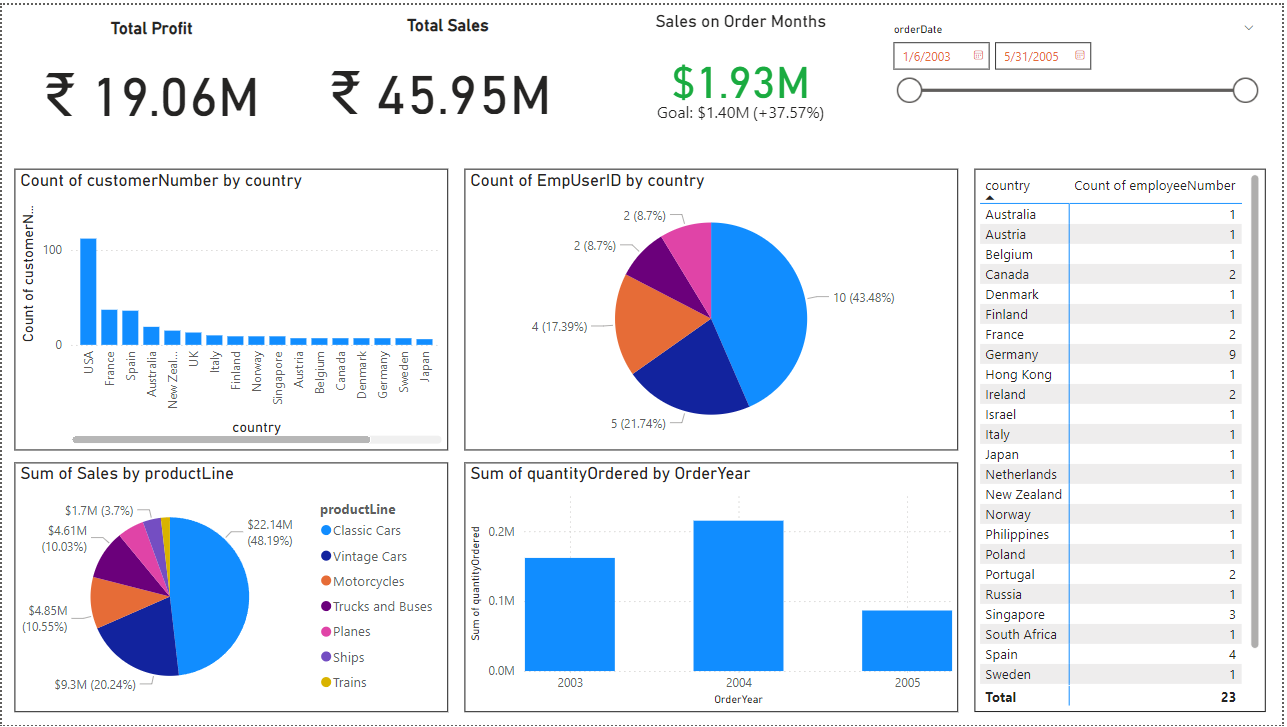

This screenshot's page, from the dashboard's own definition file:
{"tool":"powerbi","page":{"name":"CompanyAna","canvas":[1280,720],"ordinal":0},"visuals":[{"type":"columnChart","fields":{"Category":["Customers.country"],"Y":["CountNonNull(Orders.customerNumber)"]},"box":[12.3,163.3,433.6,281.3],"z":0},{"type":"pieChart","fields":{"Category":["Offices.country"],"Y":["CountNonNull(Emplyees.EmpUserID)"]},"box":[462.4,163.3,494,281.3],"z":1000},{"type":"pivotTable","fields":{"Rows":["Customers.country"],"Values":["CountNonNull(Emplyees.employeeNumber)"]},"box":[972.9,163.3,290.9,543.4],"z":2000},{"type":"pieChart","fields":{"Category":["ProductLines.productLine"],"Y":["Sum(OrderDetails.Sales)"]},"box":[12.3,456.9,433.6,249.7],"z":3000},{"type":"slicer","fields":{"Values":["Orders.orderDate"]},"box":[878.2,12.3,385.6,109.8],"z":4000},{"type":"card","title":"Total Profit","fields":{"Values":["OrderDetails.Total_Profit"]},"box":[12.3,12.3,274.4,126.2],"z":5000},{"type":"kpi","title":"Sales on Order Months","fields":{"Indicator":["OrderDetails.sales_2004"],"Goal":["OrderDetails.sales_2003"],"TrendLine":["Orders.OrderMonth"]},"box":[598.3,6.9,279.9,142.7],"z":6000},{"type":"columnChart","fields":{"Category":["Orders.OrderYear"],"Y":["Sum(OrderDetails.quantityOrdered)"]},"box":[462.4,456.9,494,249.7],"z":7000},{"type":"cardVisual","title":"Total Sales","fields":{"Data":["OrderDetails.Total_sales"]},"box":[310.1,9.6,271.7,104.3],"z":8000}]}

Visuals, with their boxes in screenshot pixels (x1, y1, x2, y2), scaled from the page's 1280x720 canvas onto the 1287x727 screenshot:
columnChart - Customers.country x CountNonNull(Orders.customerNumber): [x1=12, y1=165, x2=448, y2=449]
pieChart - Offices.country x CountNonNull(Emplyees.EmpUserID): [x1=465, y1=165, x2=962, y2=449]
pivotTable - Customers.country x CountNonNull(Emplyees.employeeNumber): [x1=978, y1=165, x2=1271, y2=714]
pieChart - ProductLines.productLine x Sum(OrderDetails.Sales): [x1=12, y1=461, x2=448, y2=713]
slicer - Orders.orderDate: [x1=883, y1=12, x2=1271, y2=123]
"Total Profit" card: [x1=12, y1=12, x2=288, y2=140]
"Sales on Order Months" kpi: [x1=602, y1=7, x2=883, y2=151]
columnChart - Orders.OrderYear x Sum(OrderDetails.quantityOrdered): [x1=465, y1=461, x2=962, y2=713]
"Total Sales" cardVisual: [x1=312, y1=10, x2=585, y2=115]
